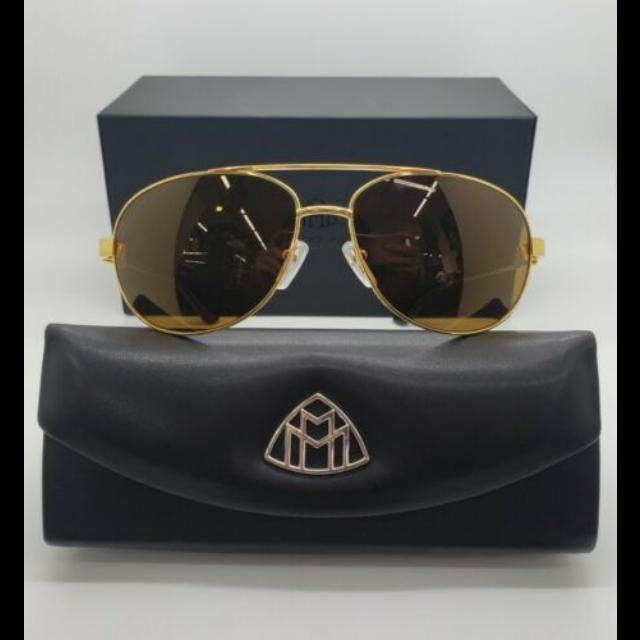sunglasses: (94, 160, 546, 340)
